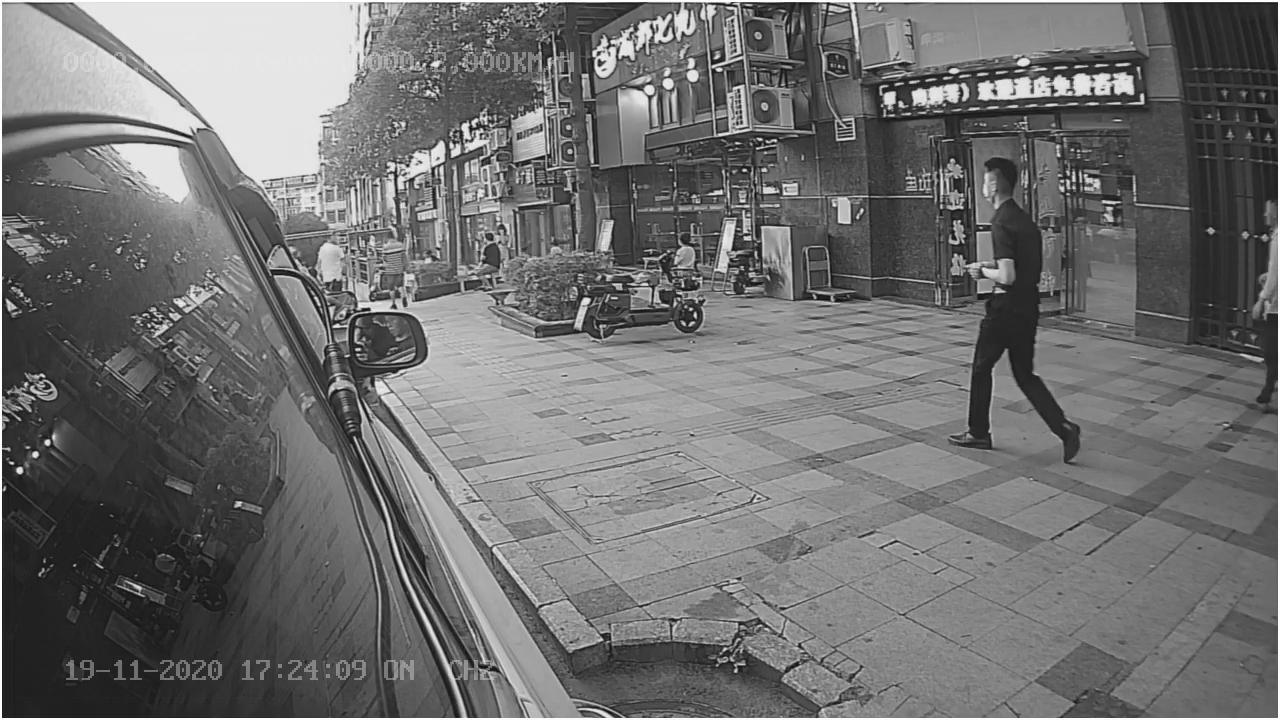person: (946, 160, 1088, 465)
